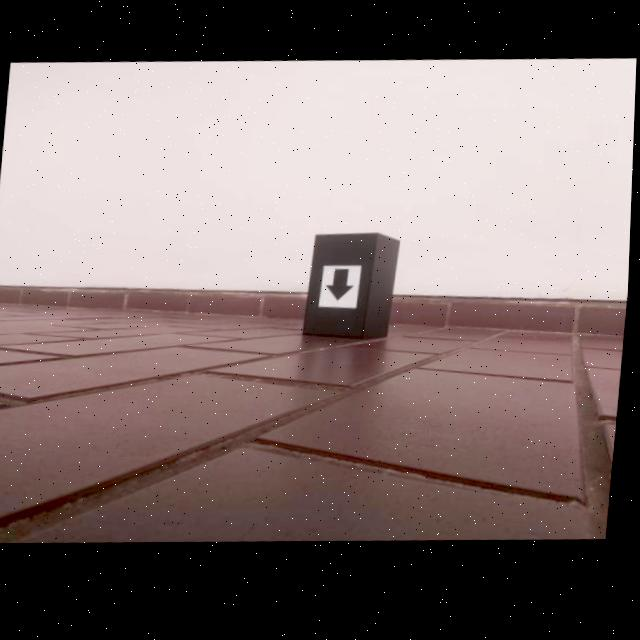DOWN: (327, 274, 357, 306)
